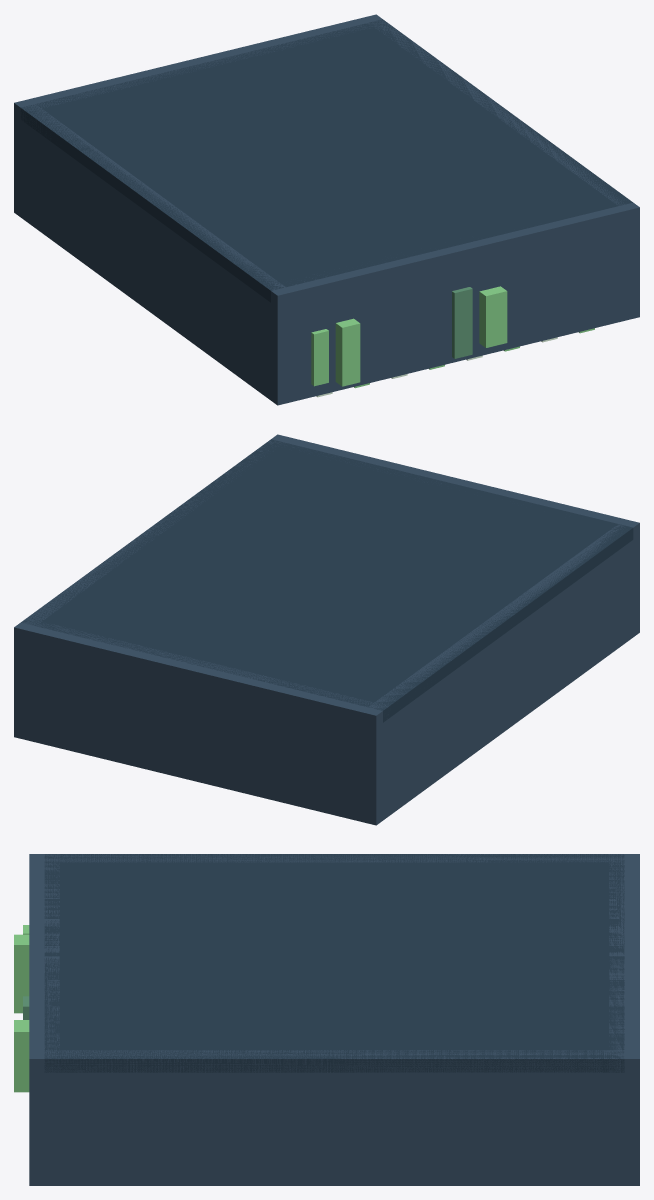
The model's file is bookshelf.glb.
The picture shows the model from 3 angles, top to bottom: view 1: azimuth 30°, elevation 25°; view 2: azimuth 150°, elevation 25°; view 3: azimuth 270°, elevation 25°; orthographic projection. The views are drawn at different scales.
Parts seen in each view (by area): view 1: bookshelf; view 2: bookshelf; view 3: bookshelf.
Part boxes in pixels (<box>): bookshelf: <box>14,14,639,405</box>; bookshelf: <box>14,434,639,825</box>; bookshelf: <box>14,854,639,1185</box>.
Size of the model in its own units: 1.2 by 0.36 by 1.55.
